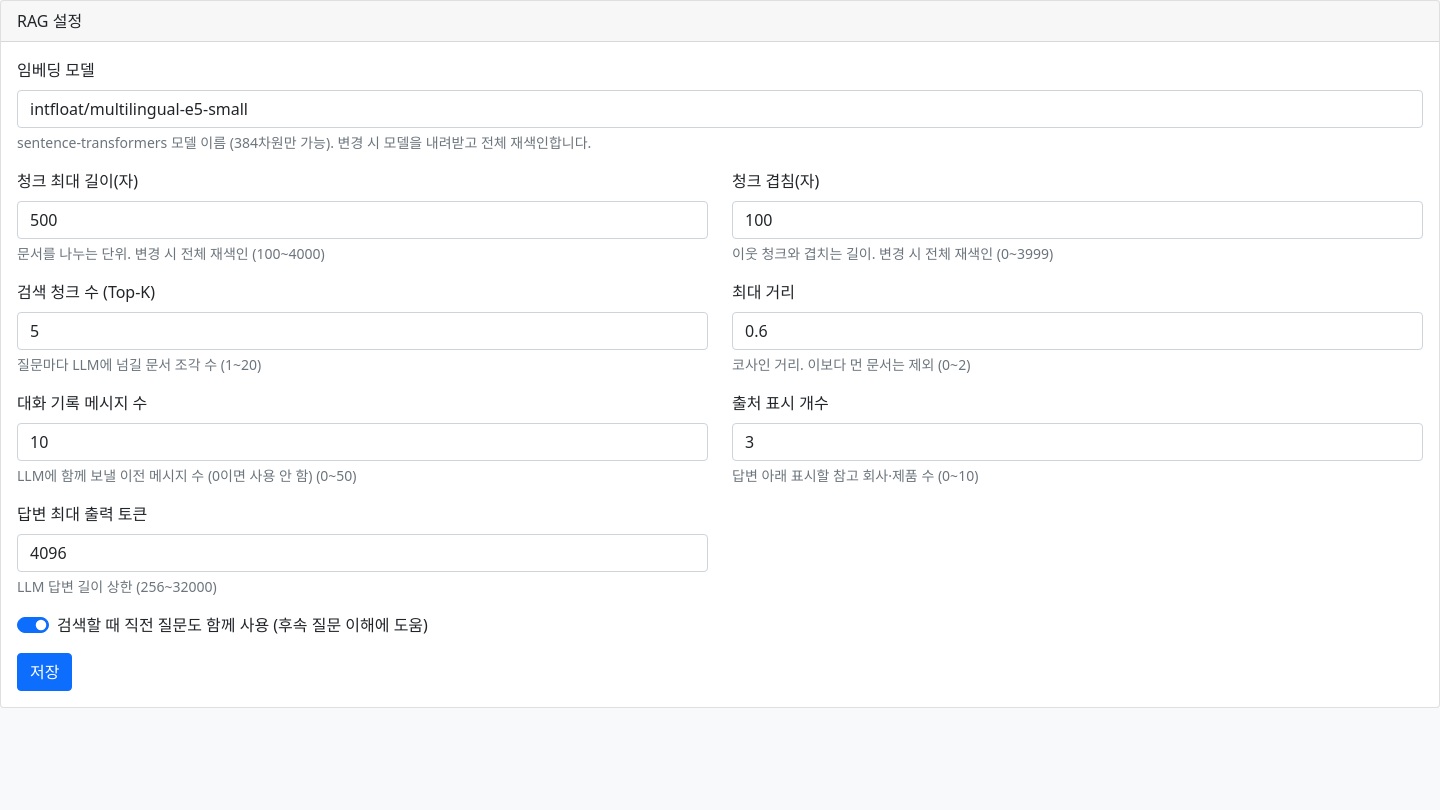
Test case: RagSettingsCard › shows field errors from the server
Replace the text in the number field with id "rag-retrieval_top_k" with "30" at point(362, 331), box [17,312,708,350]
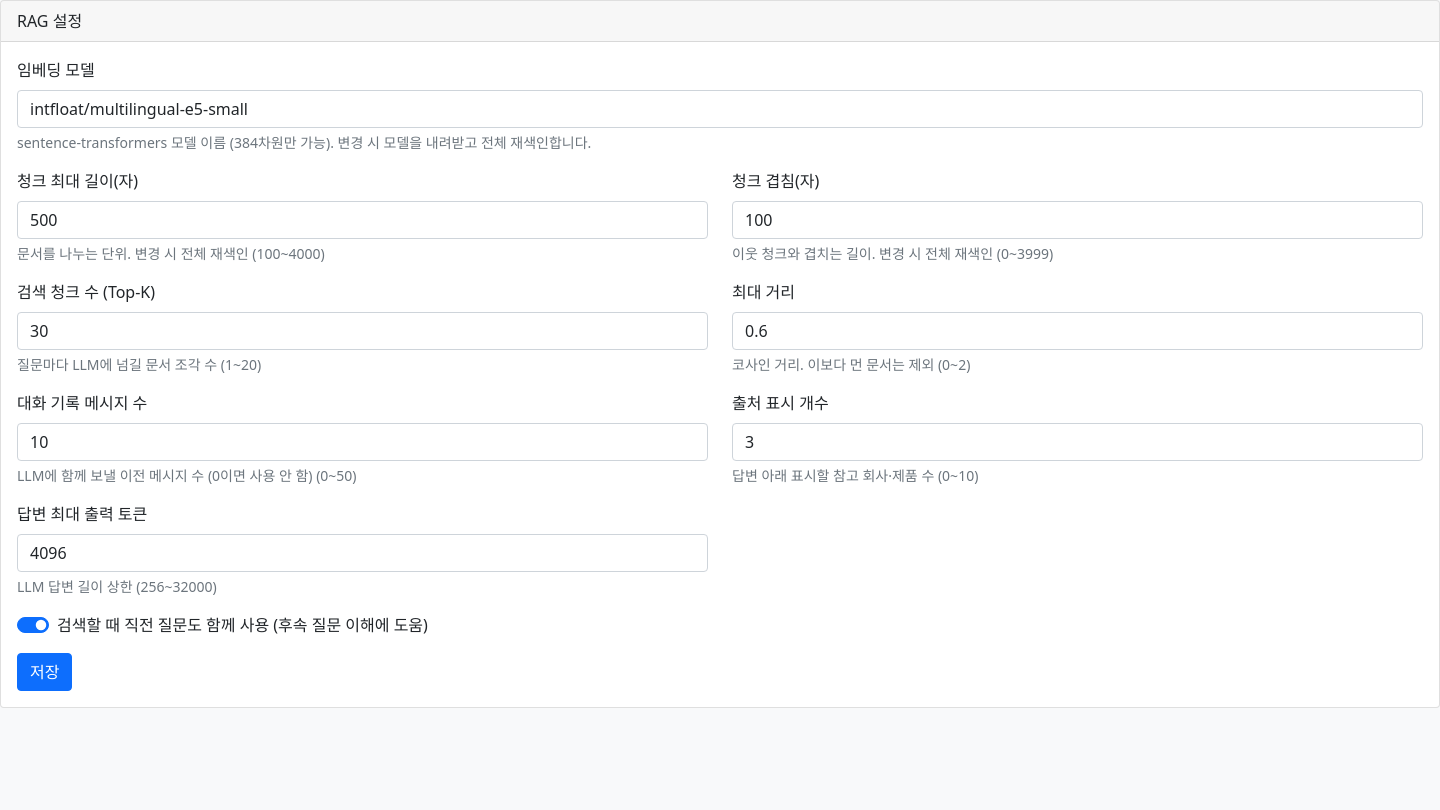
Submit the form
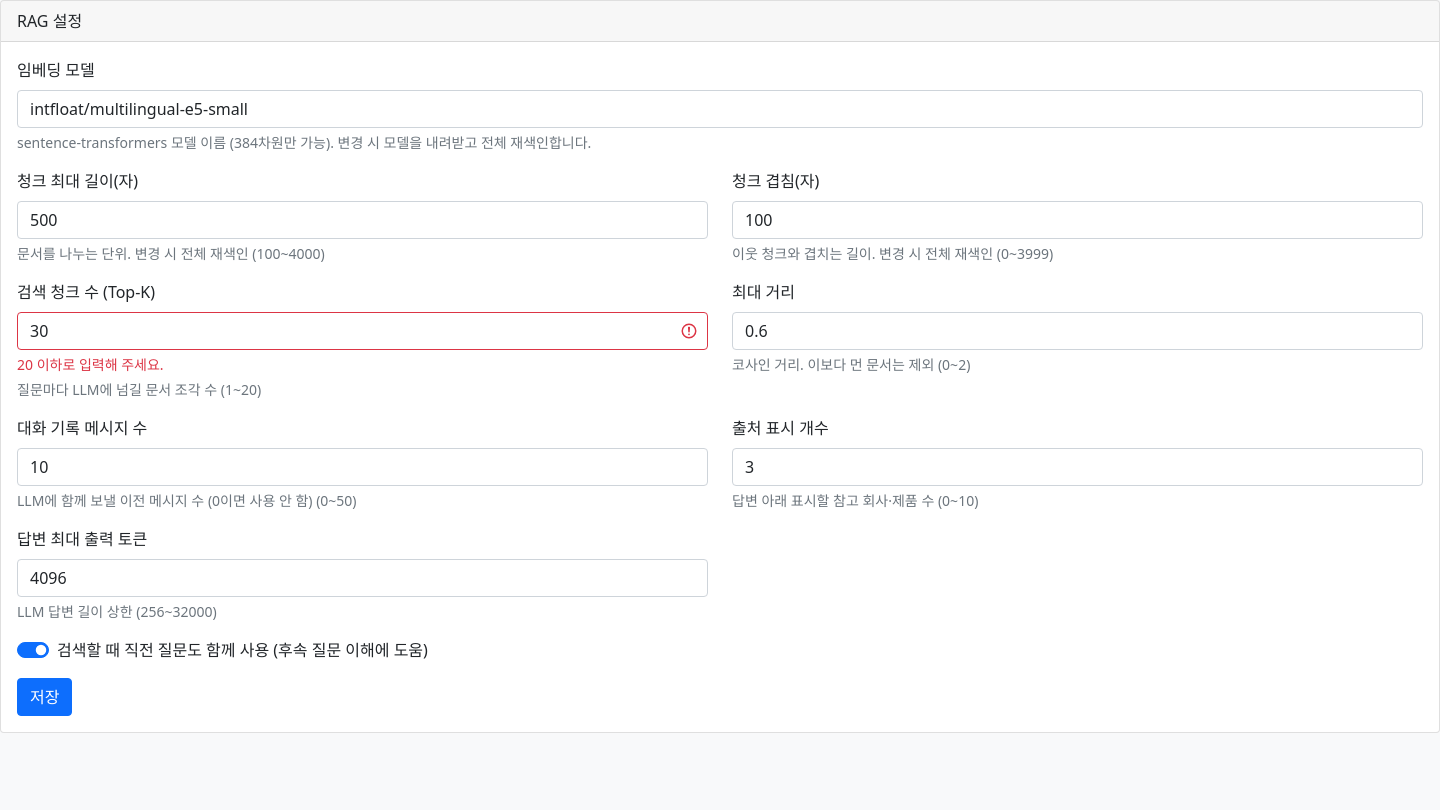
Expected: the text "20 이하로 입력해 주세요." is shown, [17,355,164,374]
